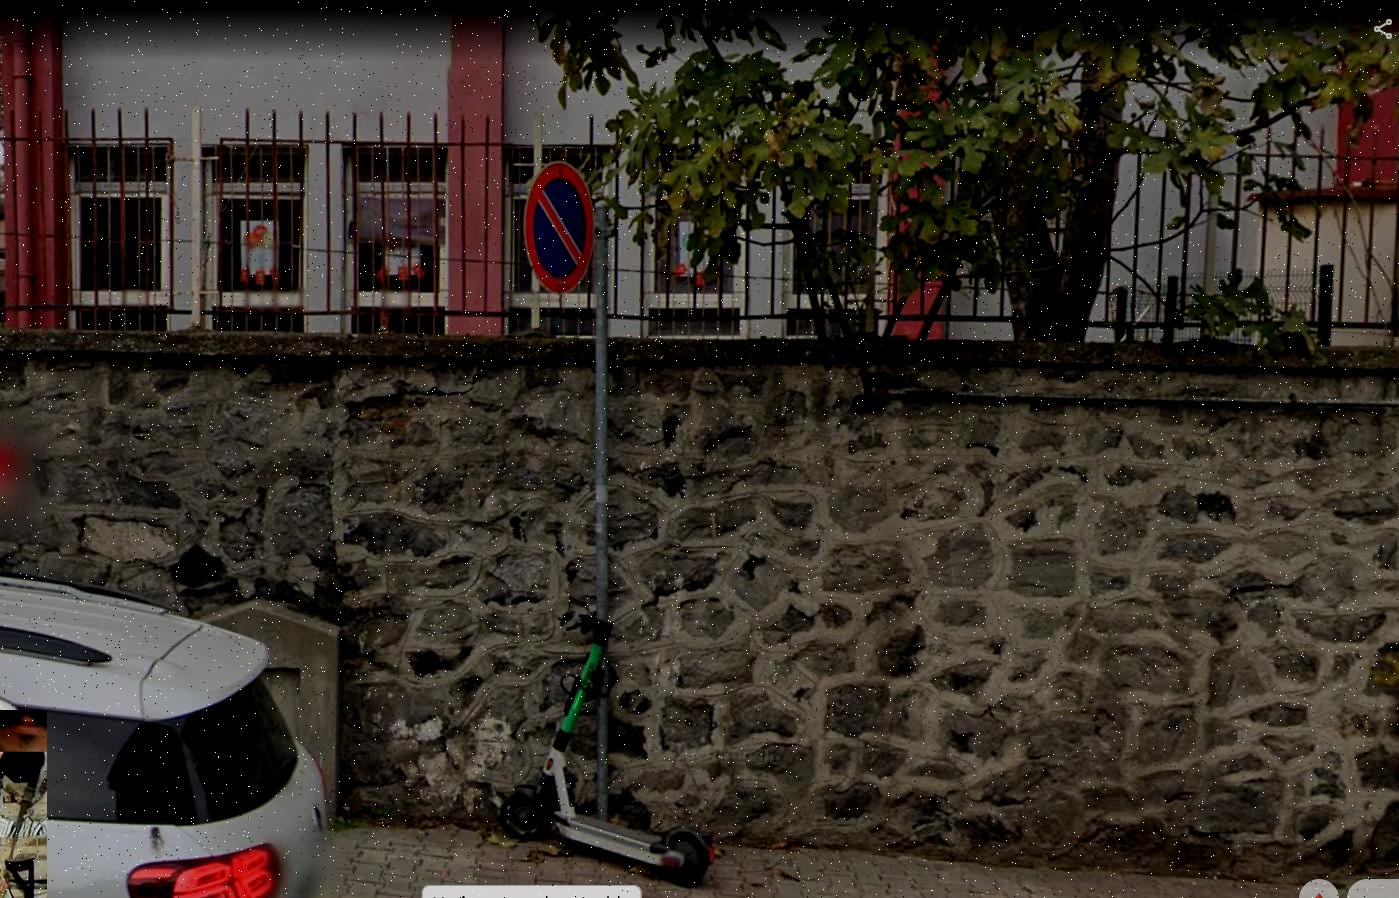nopark: (527, 163, 593, 283)
